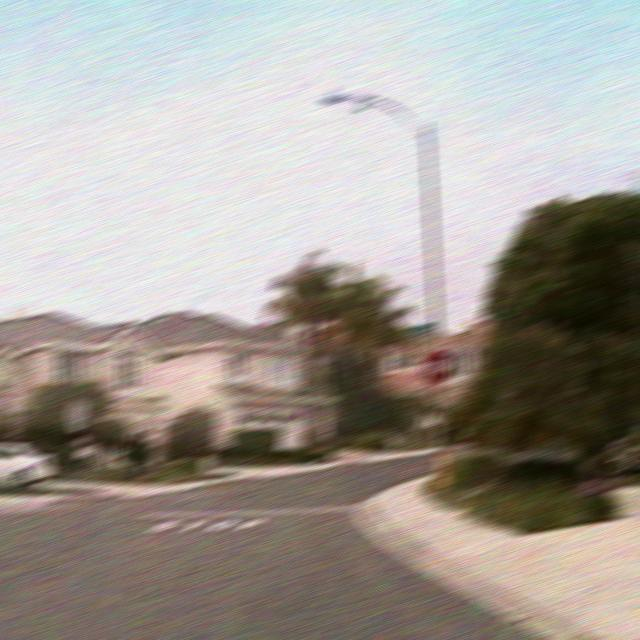stop: (420, 348, 453, 384)
